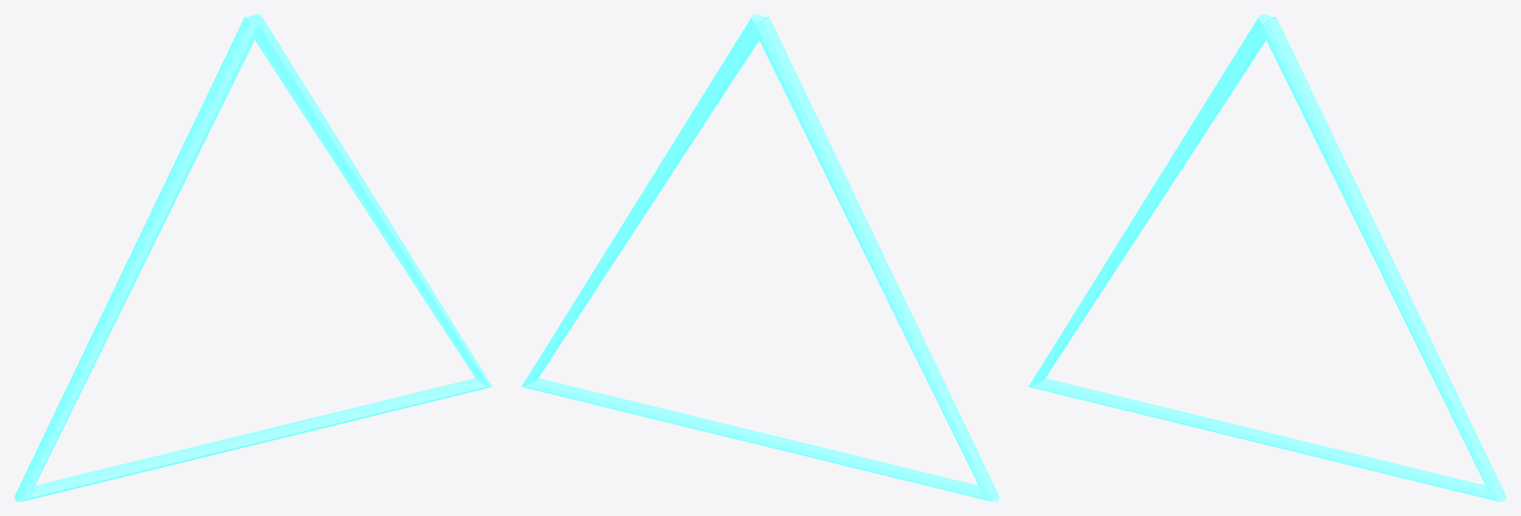
File: arcade_neon_triangle.glb
3 views of the same model, side by side, from view 1: azimuth 30°, elevation 25°; view 2: azimuth 150°, elevation 25°; view 3: azimuth 330°, elevation 25° (orthographic).
Visible parts, largest first — view 1: Triangle; view 2: Triangle; view 3: Triangle.
Boxes of the visible parts, x1,y1,x2,y2 form: Triangle: (14,14,492,501); Triangle: (521,14,999,501); Triangle: (1028,14,1506,501).
Bounding box in the file's own units: 1.13 × 0.965 × 0.04.
